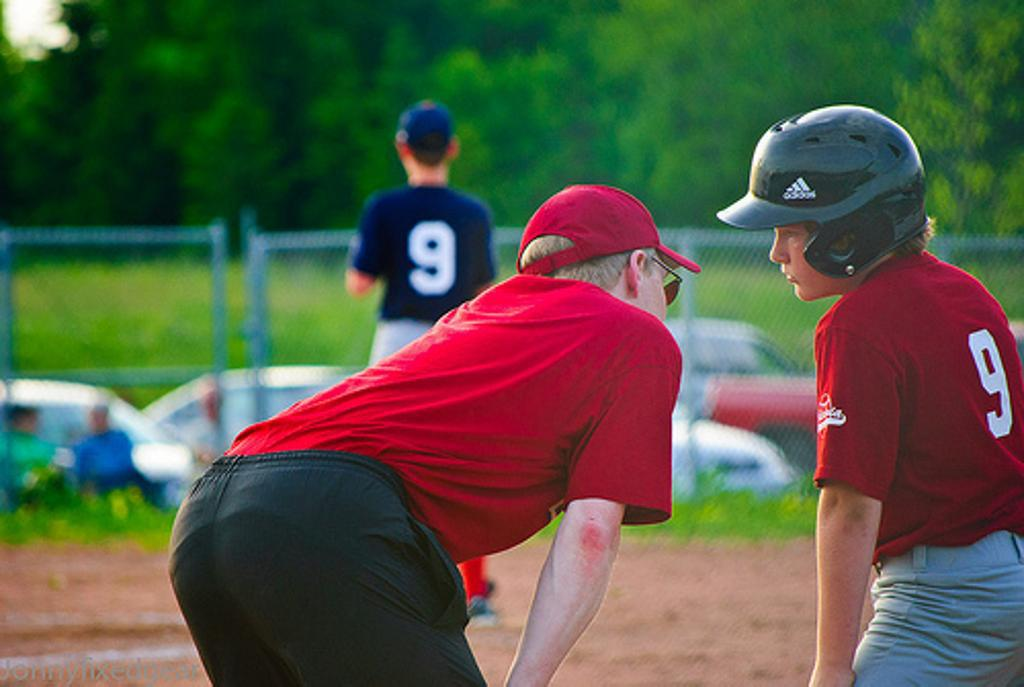face: (771, 175, 855, 303)
